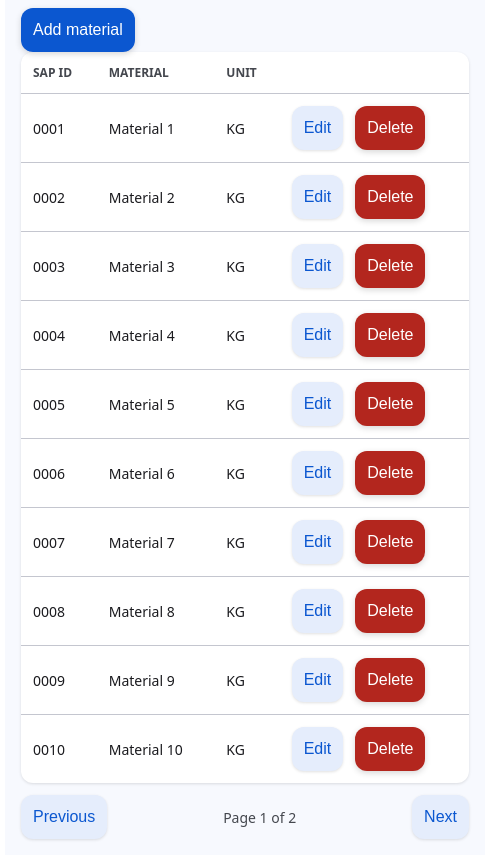
Test case: MaterialsPage › shows materials in a table sorted by SAP id, paginated 10 per page, with the SAP id column visible
(page scrolled)
Check: the text "Material 1" is shown, box [97,94,214,162]
Check: the text "0001" is shown, box [21,94,97,162]
Click the button "Next": [441, 817] box [412,795,469,839]
(page scrolled)
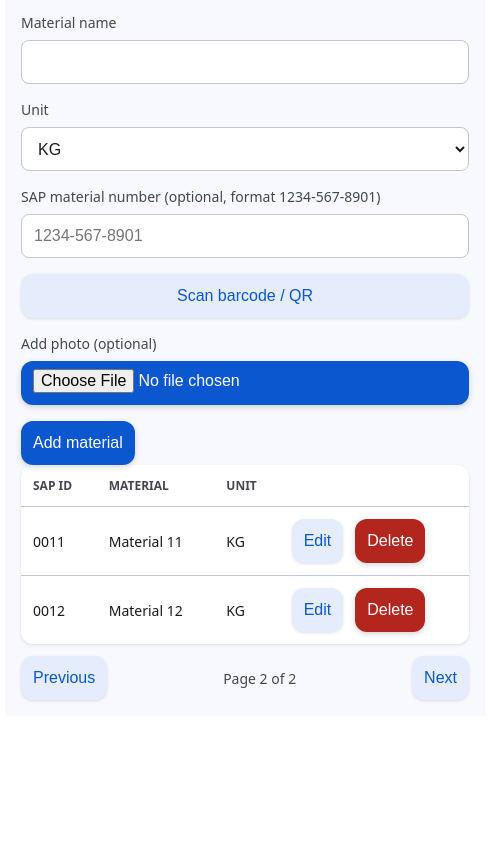
Check: the text "Page 2 of 2" is shown, box [223,668,296,688]
Check: the text "0012" is shown, box [21,576,97,644]
